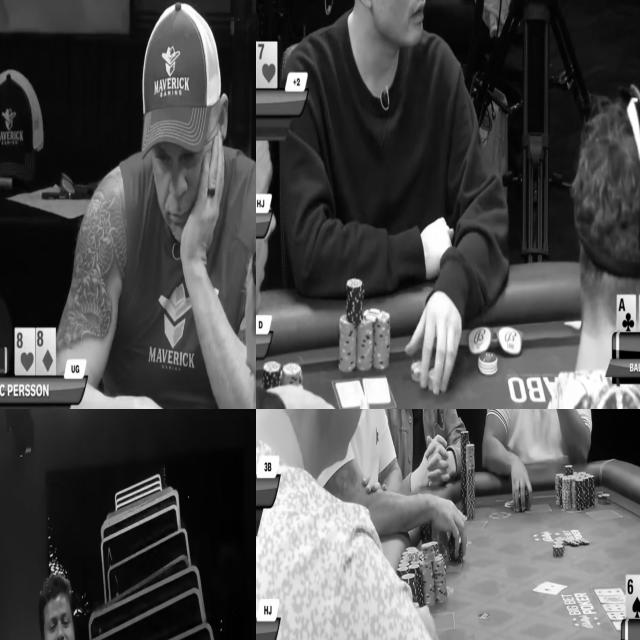6S: (626, 576, 640, 618)
7H: (256, 42, 278, 88)
8D: (36, 329, 56, 372)
8H: (14, 327, 36, 374)
AC: (617, 294, 635, 332)
